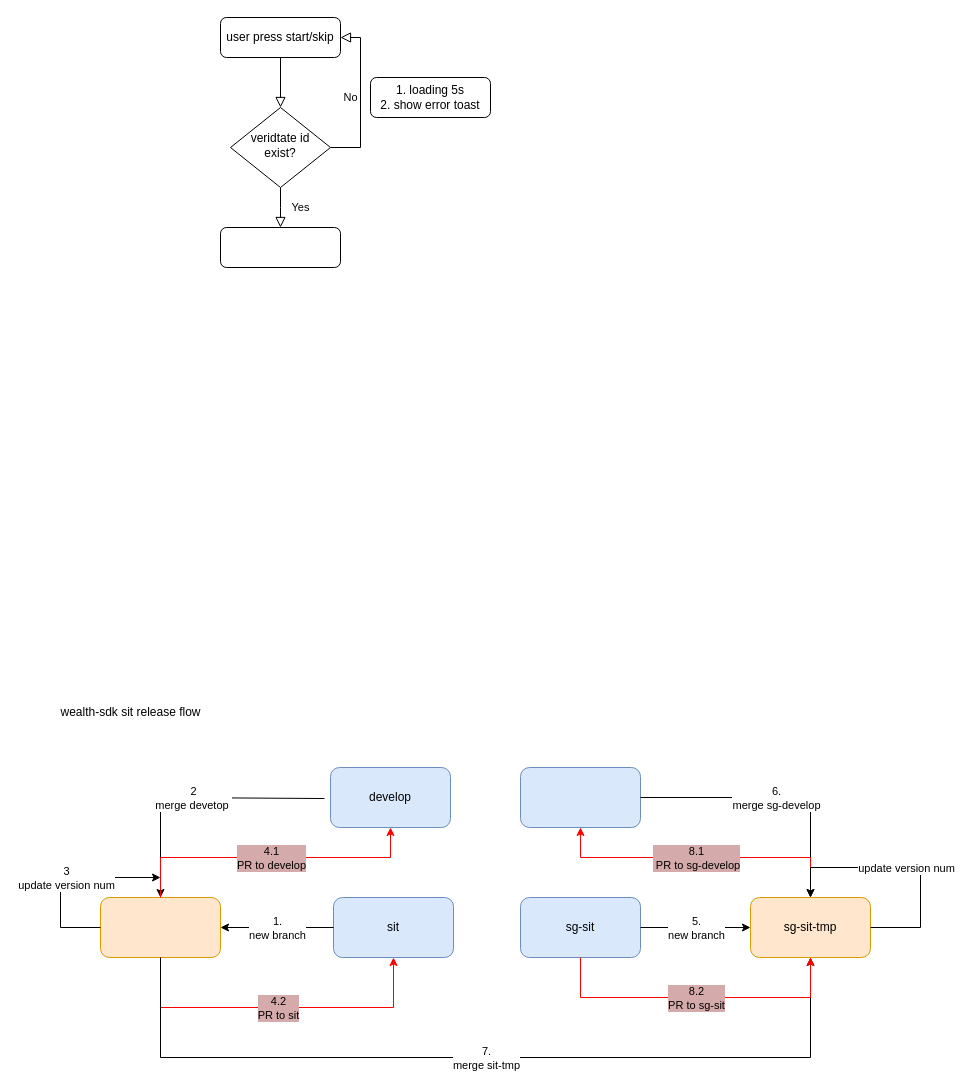
Some shapes in this 971 by 1088 pixel diagram are drawn without their labels. Here are the shapes that lost their labels. From the top down, the centre of each, then its label:
point (280, 247): go to next page
point (580, 797): sg-develop
point (160, 927): sit-tmp
